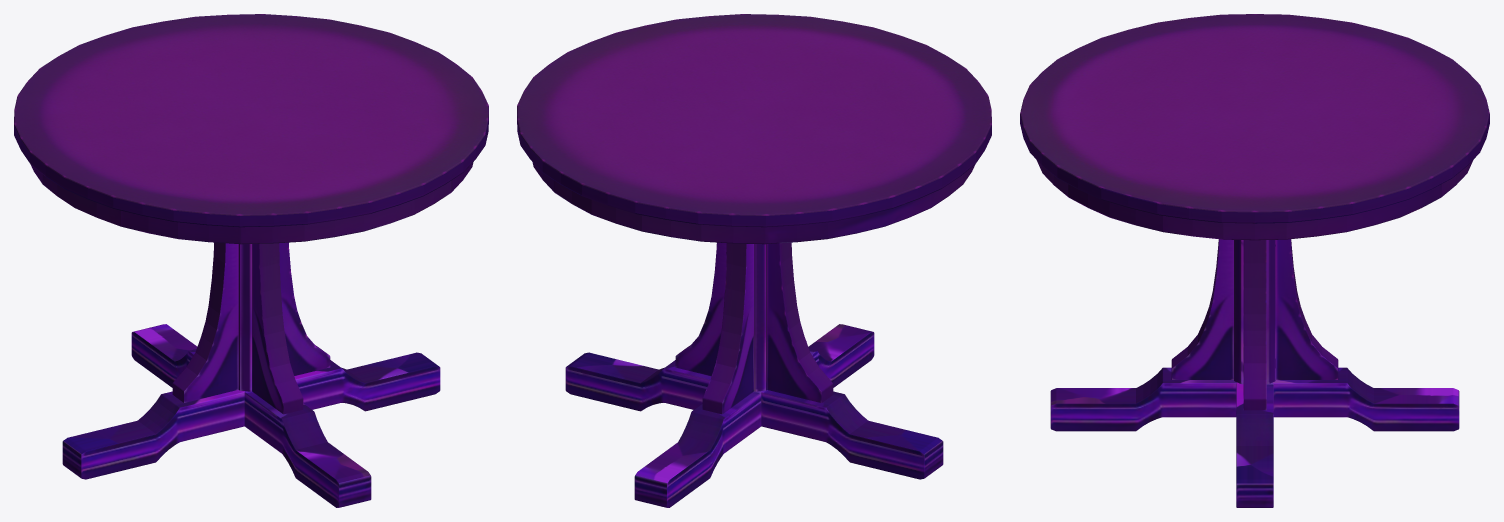
The model's file is edited_mesh.glb.
3 views of the same model, side by side, from view 1: azimuth 30°, elevation 25°; view 2: azimuth 150°, elevation 25°; view 3: azimuth 270°, elevation 25° (orthographic).
Parts seen in each view (by area): view 1: normalized_model.obj; view 2: normalized_model.obj; view 3: normalized_model.obj.
Part boxes in pixels (<box>): normalized_model.obj: <box>14,14,488,507</box>; normalized_model.obj: <box>517,14,991,507</box>; normalized_model.obj: <box>1020,14,1489,507</box>.
Size of the model in its own units: 1.62 by 1.19 by 1.62.
Materials: 1 (1 with a texture image).
